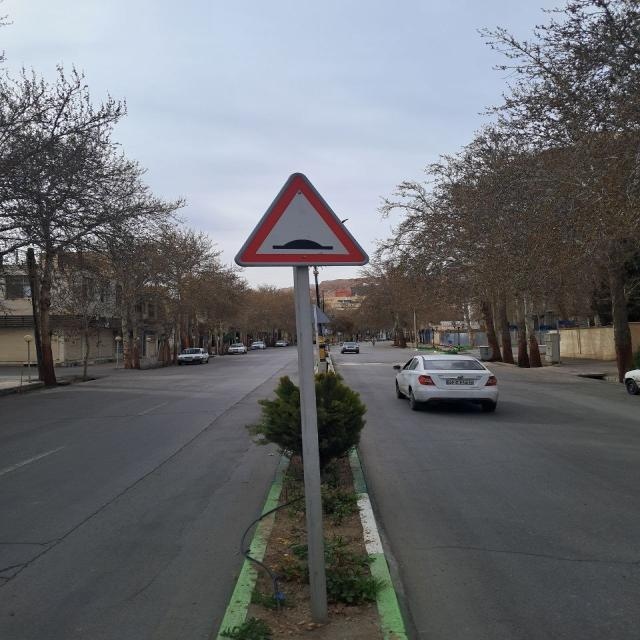road bump ahead: (230, 170, 379, 266)
